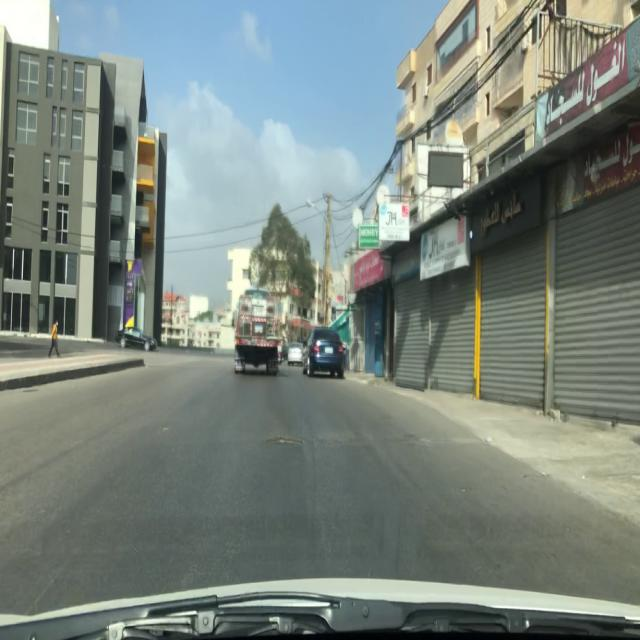Pothole: (260, 434, 306, 450)
